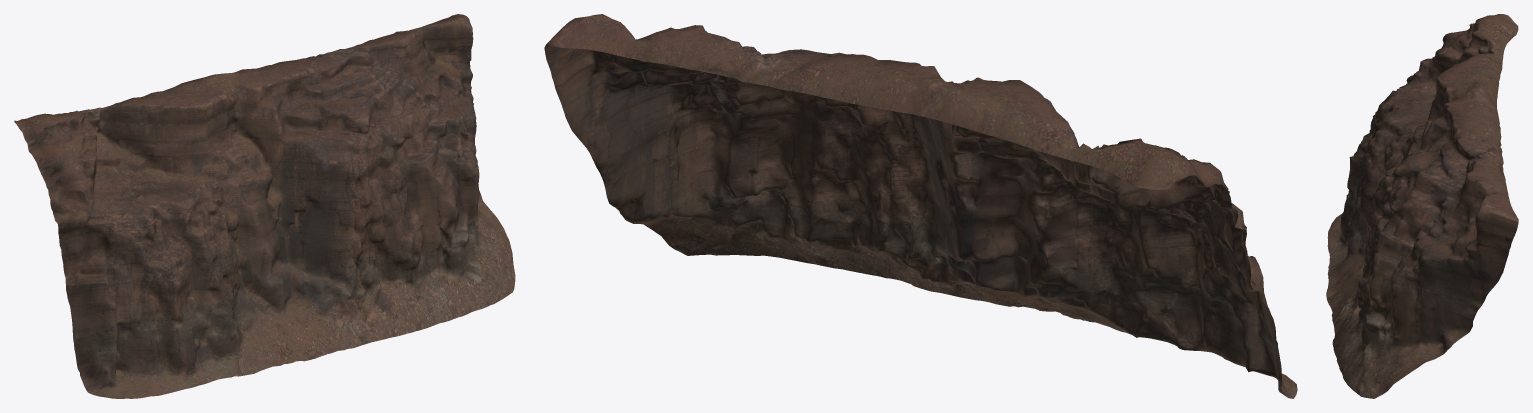
Rendered from quarry_cliff_ubhubhyda_mid.glb.
3 renders of one model, left to right at view 1: azimuth 30°, elevation 25°; view 2: azimuth 150°, elevation 25°; view 3: azimuth 270°, elevation 25°, orthographic. The views are drawn at different scales.
Visible parts, largest first — view 1: ubhubhyda_LOD0_TIER2_000; view 2: ubhubhyda_LOD0_TIER2_000; view 3: ubhubhyda_LOD0_TIER2_000.
Boxes of the visible parts, x1=… form: ubhubhyda_LOD0_TIER2_000: x1=14, y1=14, x2=515, y2=398; ubhubhyda_LOD0_TIER2_000: x1=544, y1=14, x2=1297, y2=398; ubhubhyda_LOD0_TIER2_000: x1=1326, y1=14, x2=1518, y2=398.
Size of the model in its own units: 13.82 by 6.61 by 5.52.
1 material, 1 textured.
